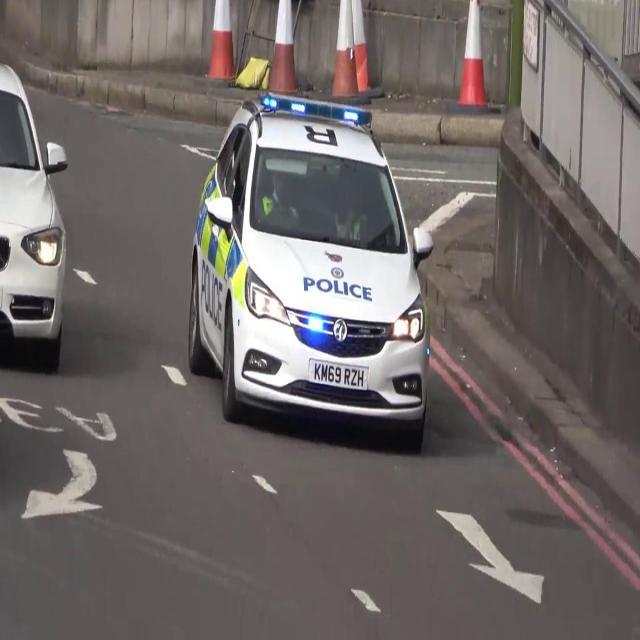fire_truck: (186, 96, 432, 439)
